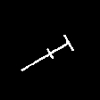double_crochet: (22, 35, 73, 70)
